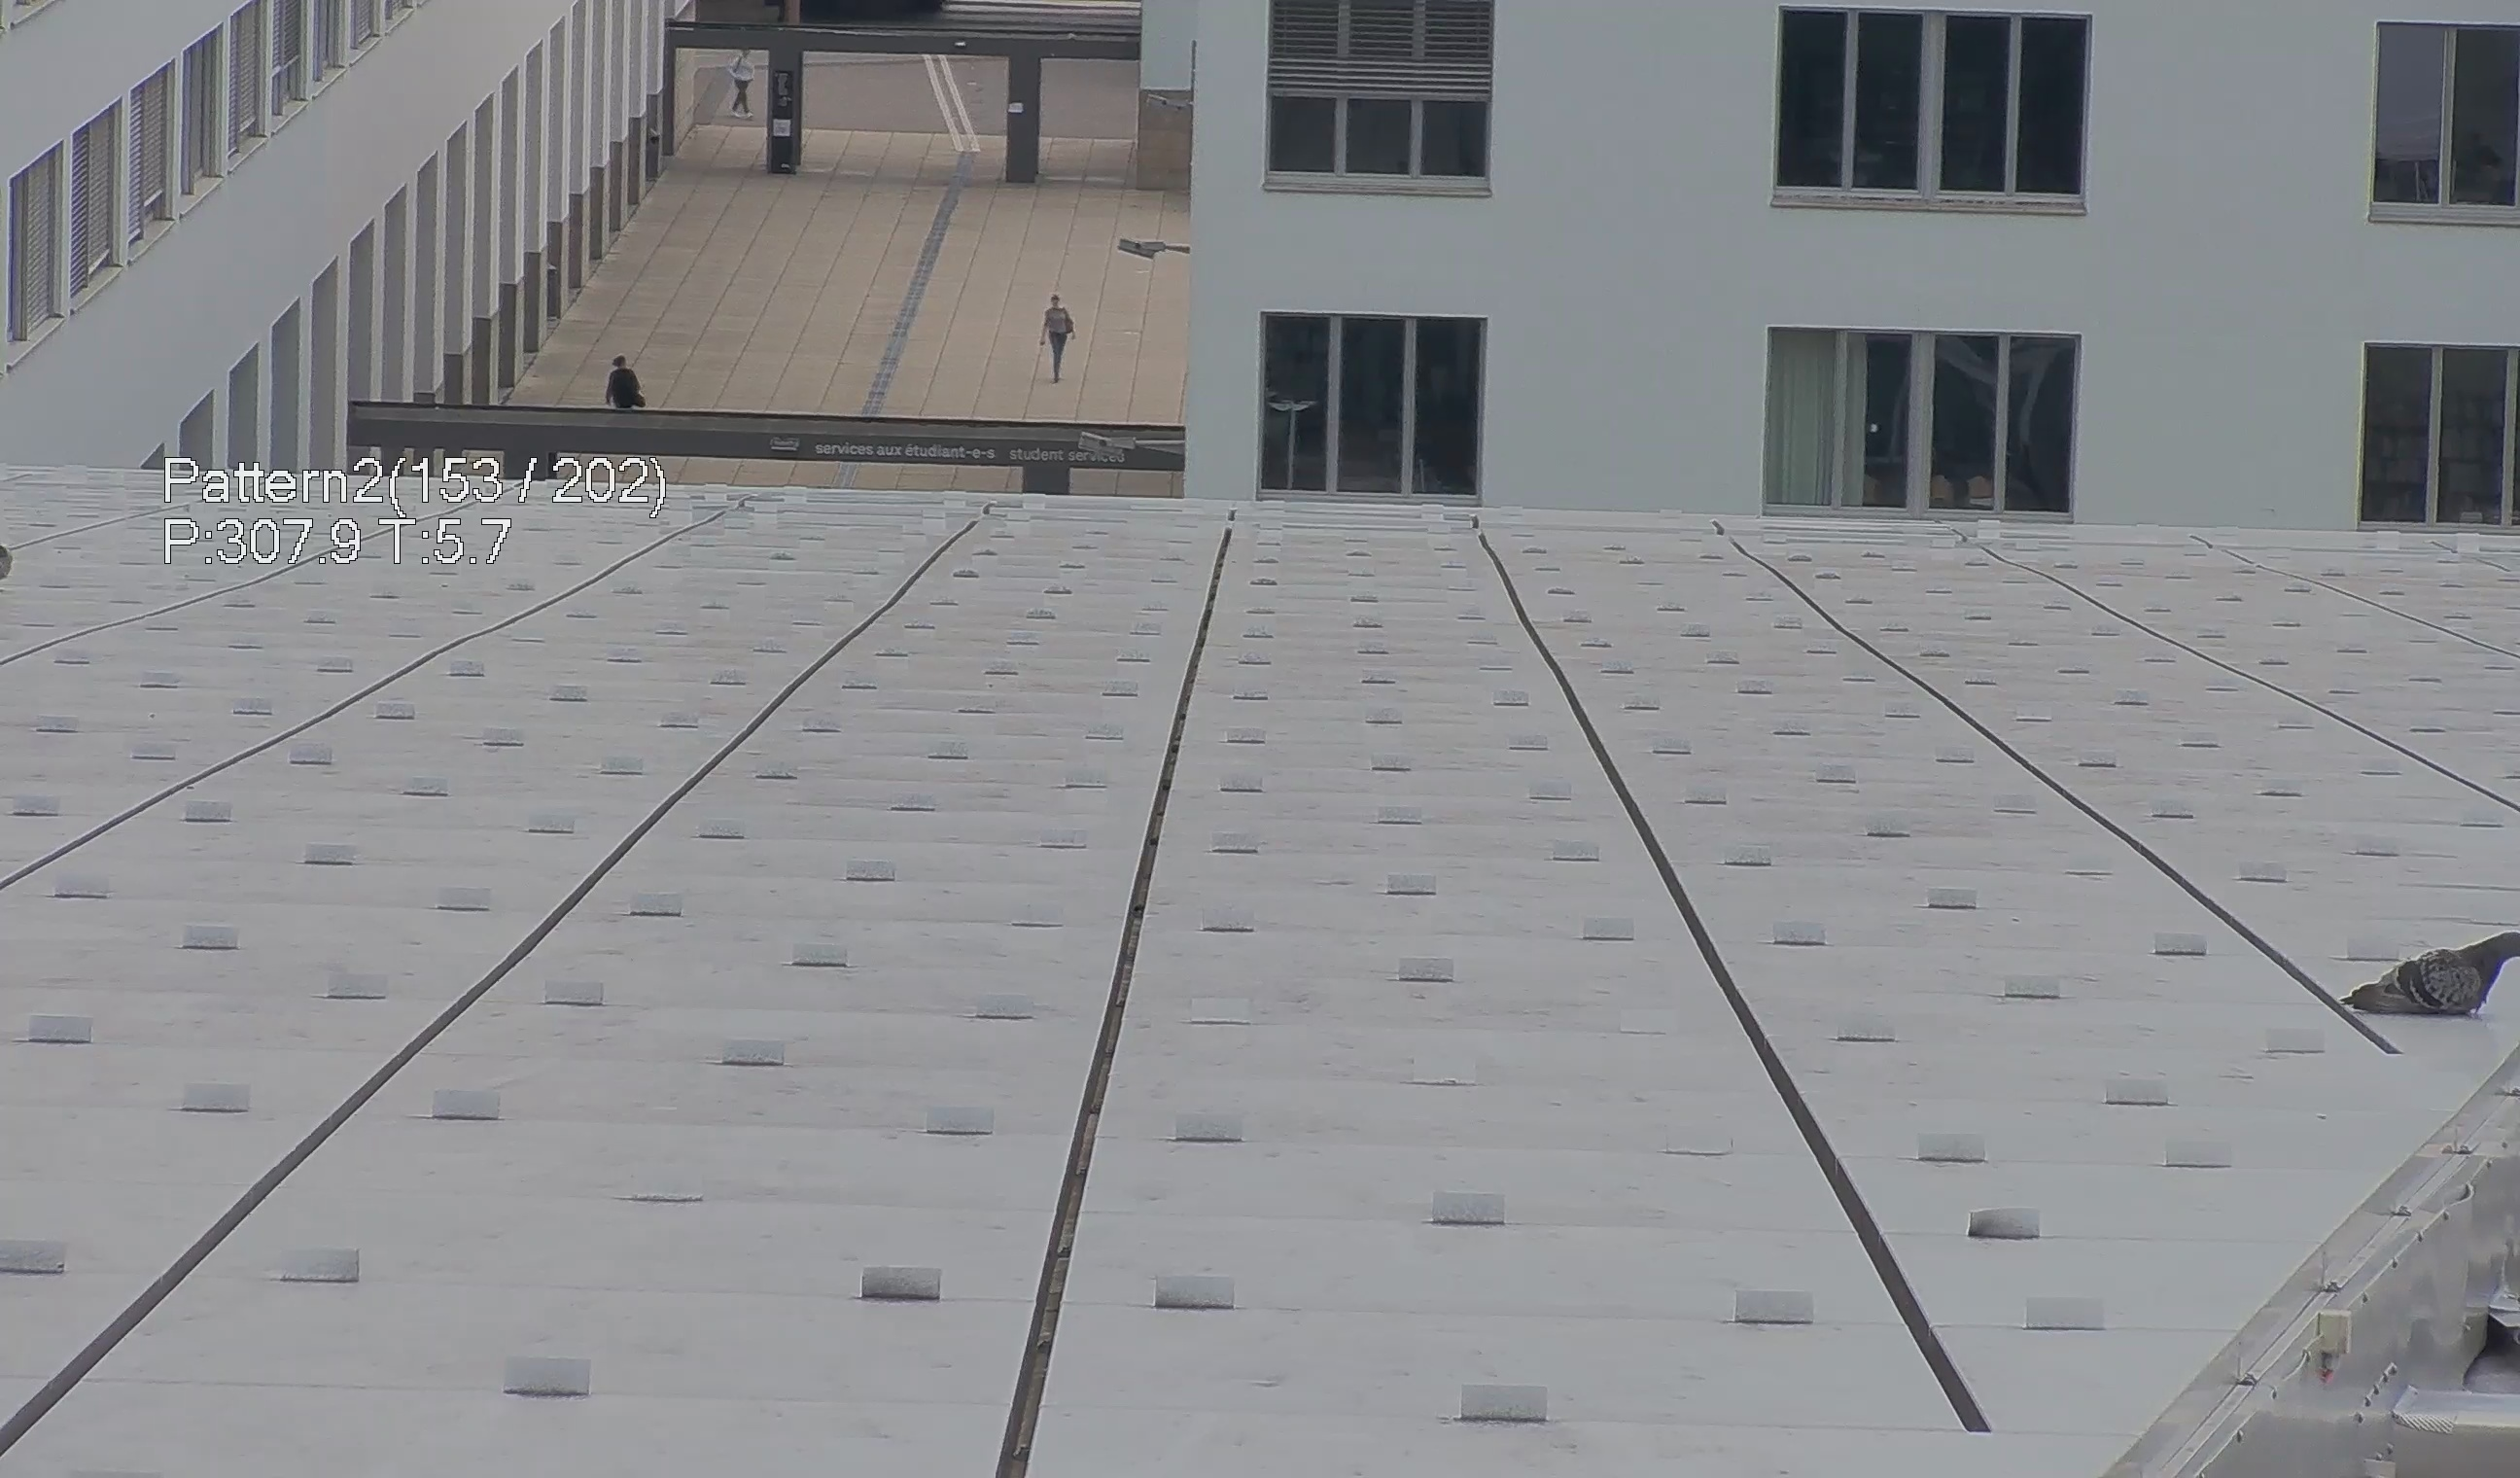Pigeon: (2334, 917, 2520, 1033)
